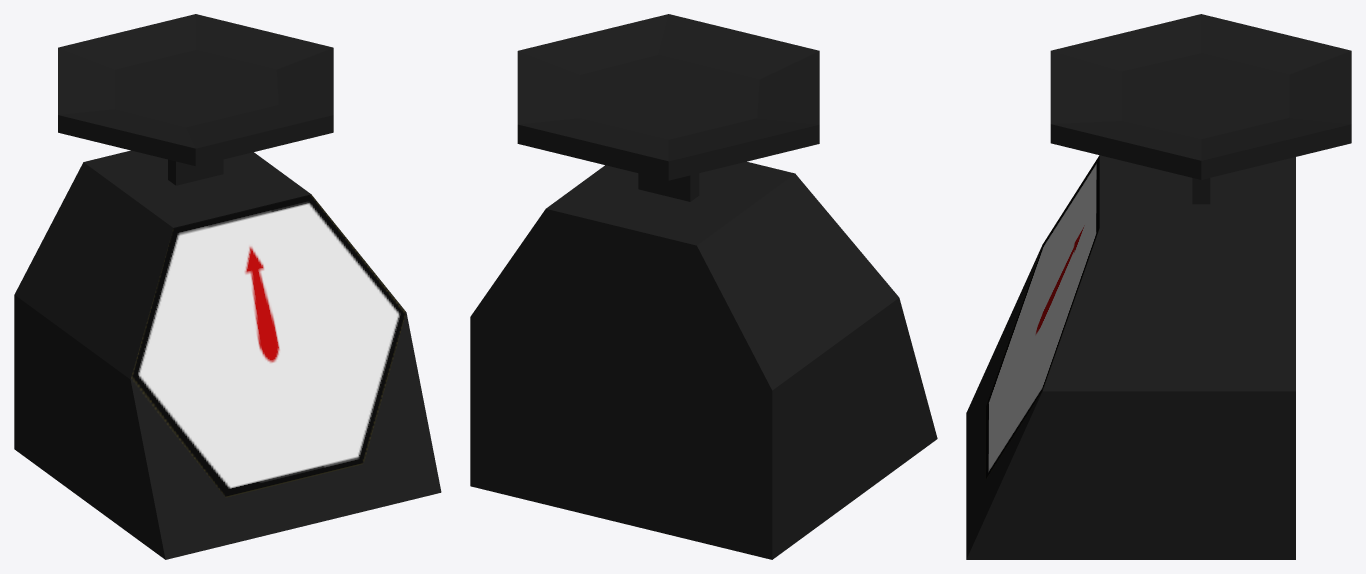
File: scale2_PLY.fbx
The picture shows the model from 3 angles, left to right: view 1: azimuth 30°, elevation 25°; view 2: azimuth 150°, elevation 25°; view 3: azimuth 270°, elevation 25°; orthographic projection. The views are drawn at different scales.
Parts seen in each view (by area): view 1: scale2_PLY; view 2: scale2_PLY; view 3: scale2_PLY.
Boxes of the visible parts, x1=… form: scale2_PLY: x1=14, y1=14, x2=441, y2=559; scale2_PLY: x1=470, y1=14, x2=937, y2=559; scale2_PLY: x1=966, y1=14, x2=1351, y2=559.
Bounding box in the file's own units: 1.02 × 1.29 × 1.13.
